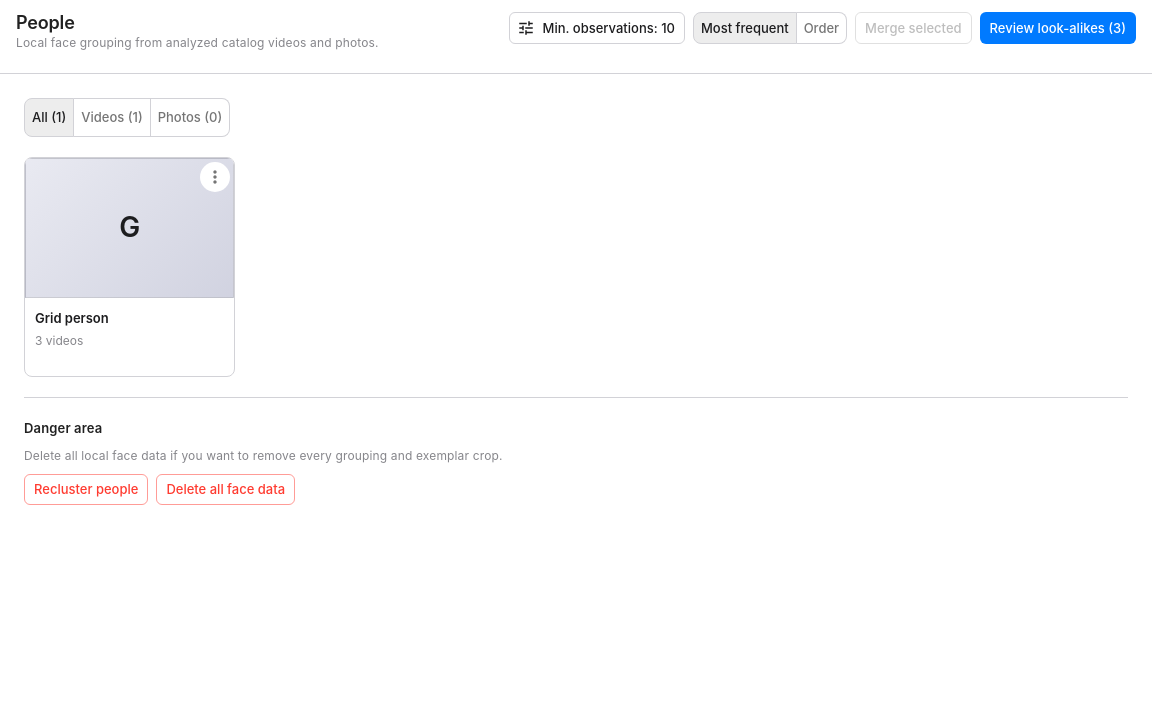
Test case: Osoby pair review keyboard, confirmation and undo › brings the answered pair back on Backspace and rewinds the counter
Click the button with test id "people-pair-review-open".
click(1058, 28)  # box [980,12,1136,44]
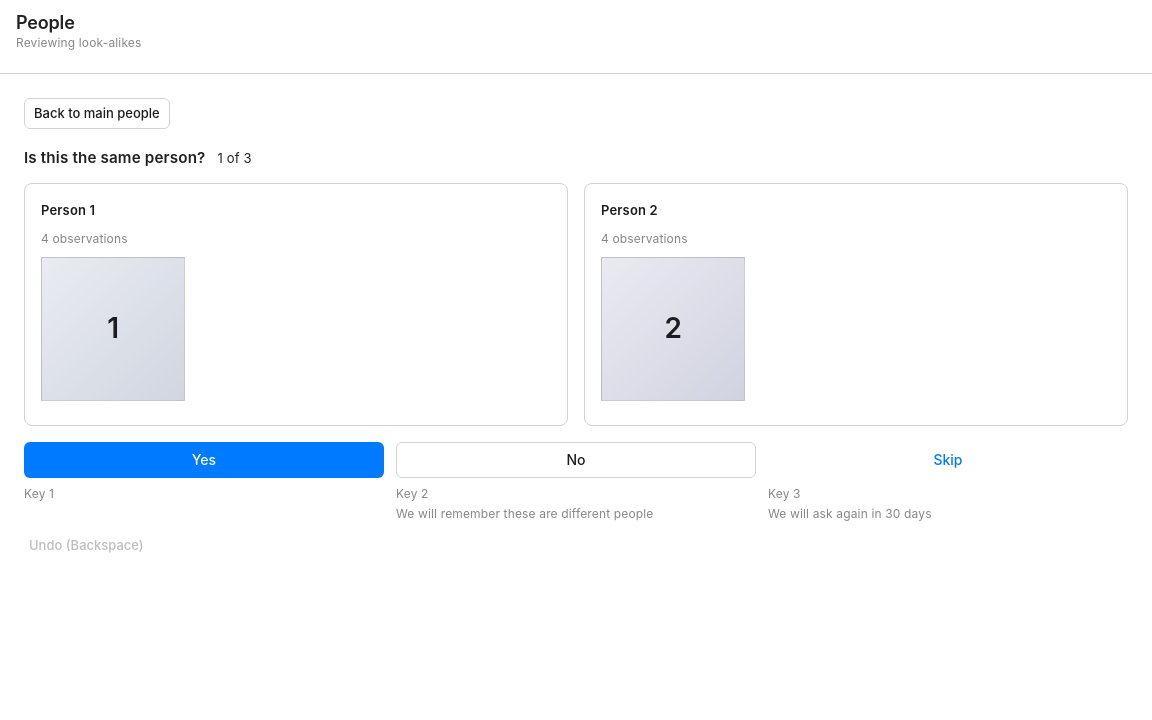
Now the element with test id "people-pair-review" is shown, box [24,149,1128,561]
Type keys "2"
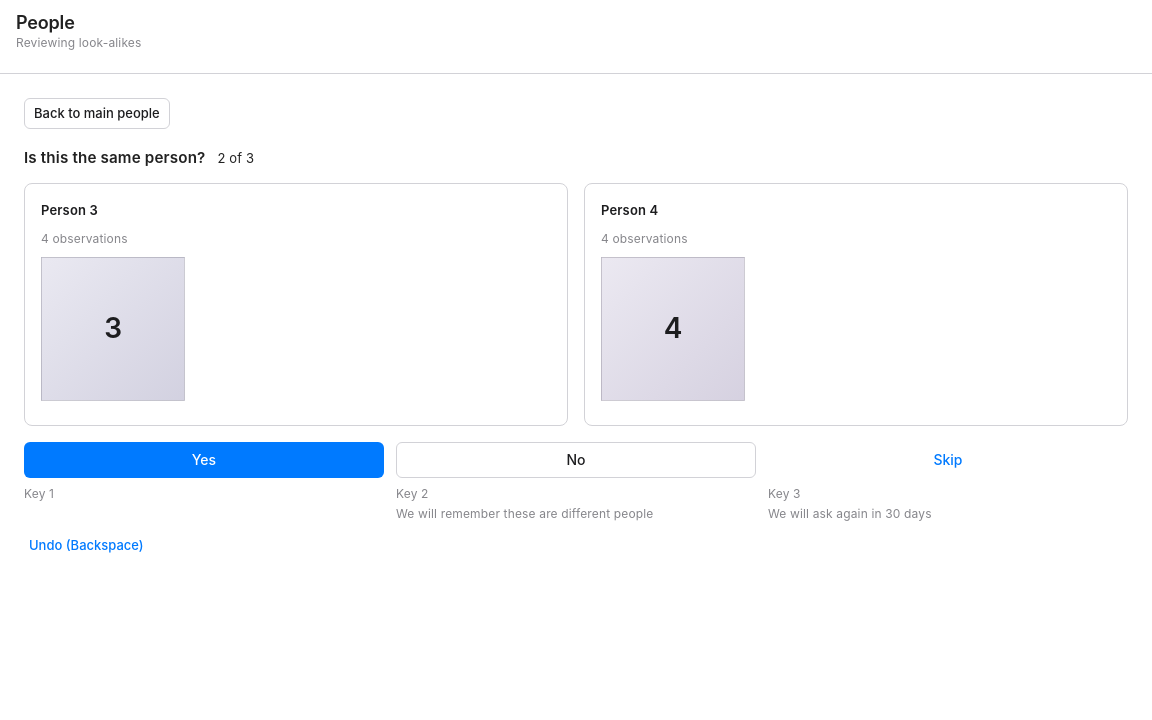
Now the message with test id "people-pair-review-position" reads "2 of 3", box [218,150,254,166]
Press Backspace
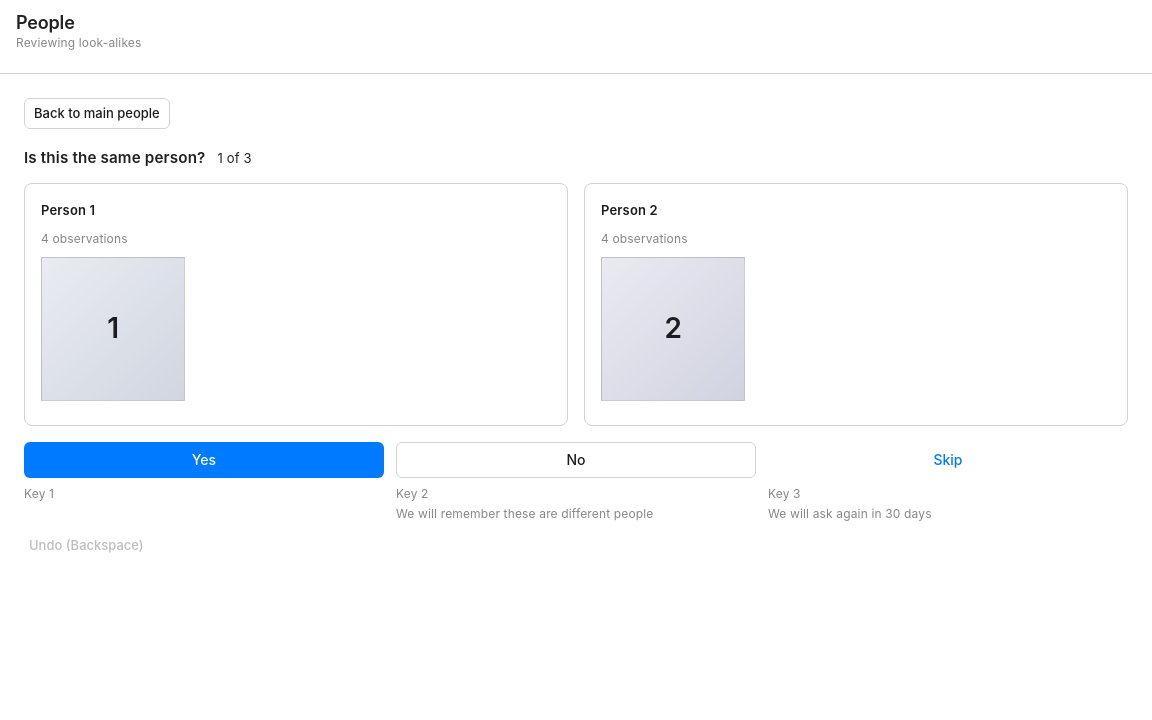
Now the message with test id "people-pair-review-position" reads "1 of 3", box [218,150,252,166]
Click the button with test id "people-back-main".
click(97, 113)  # box [24,98,170,129]
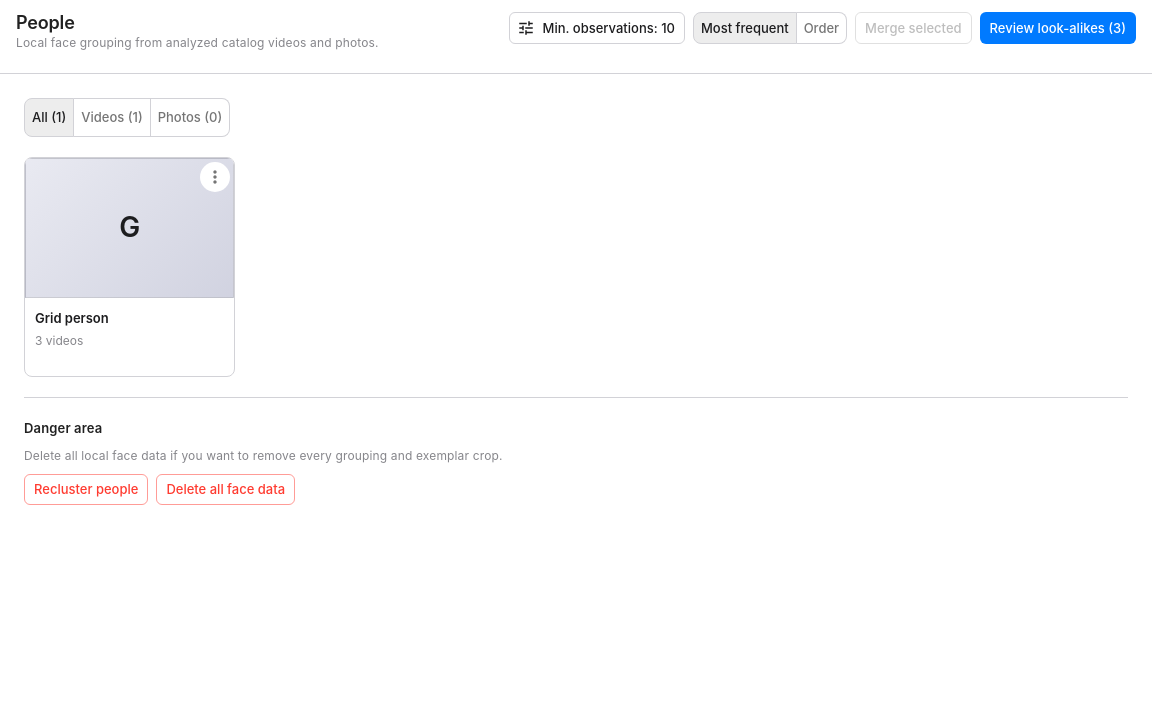
Now the button with test id "people-pair-review-open" reads "Review look-alikes (3)", box [980,12,1136,44]
